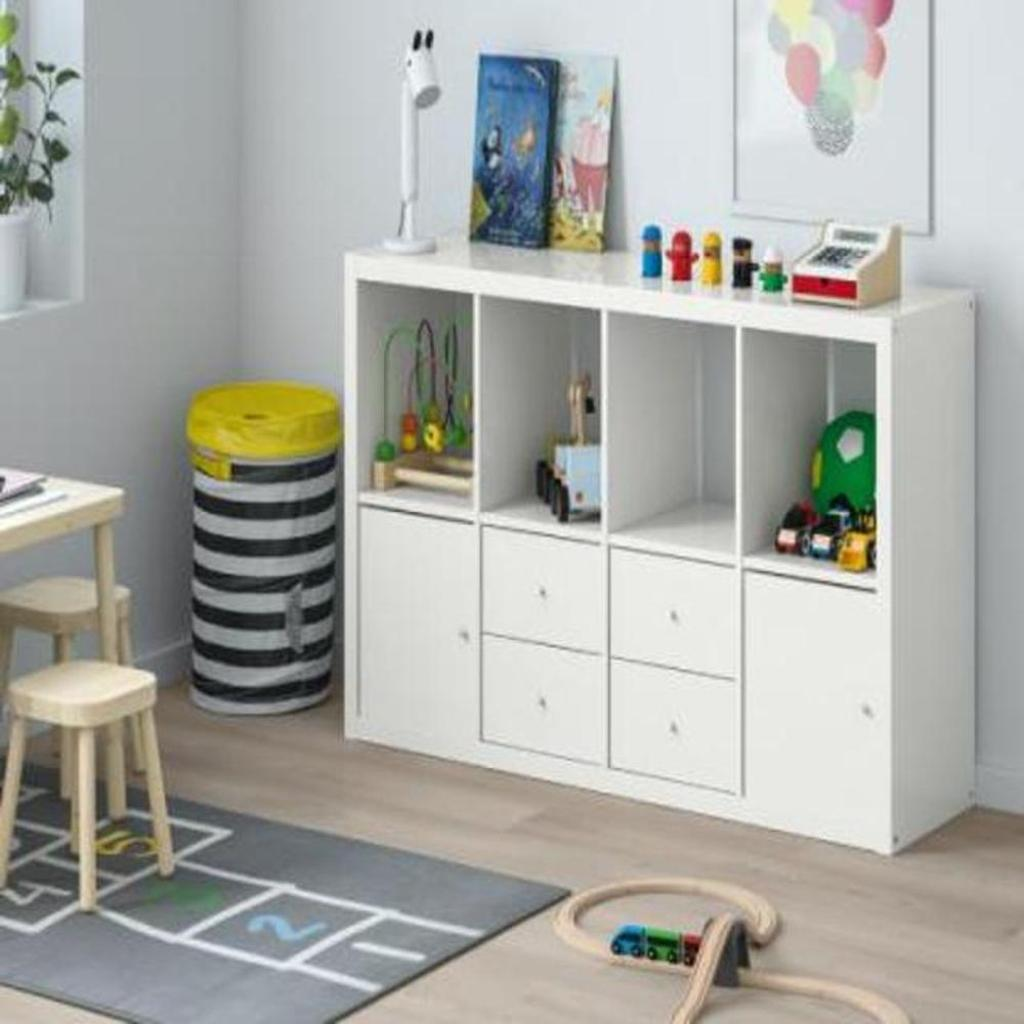lamp: (342, 225, 977, 861)
